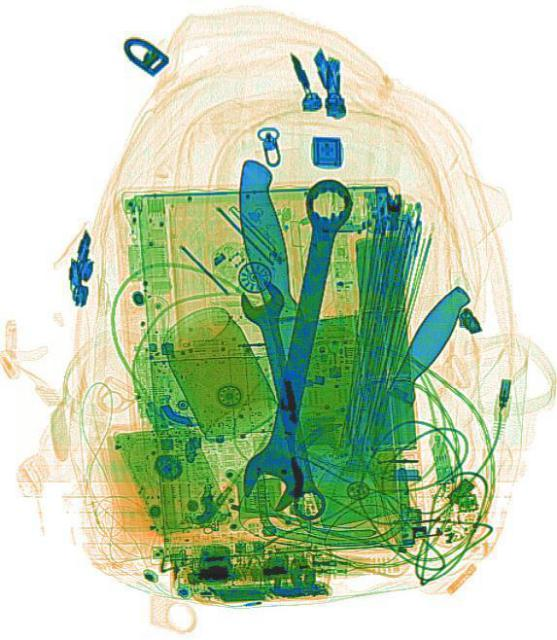Knife: (228, 138, 413, 536), (308, 276, 473, 526)
Wrench: (235, 172, 370, 514), (235, 276, 336, 526)
